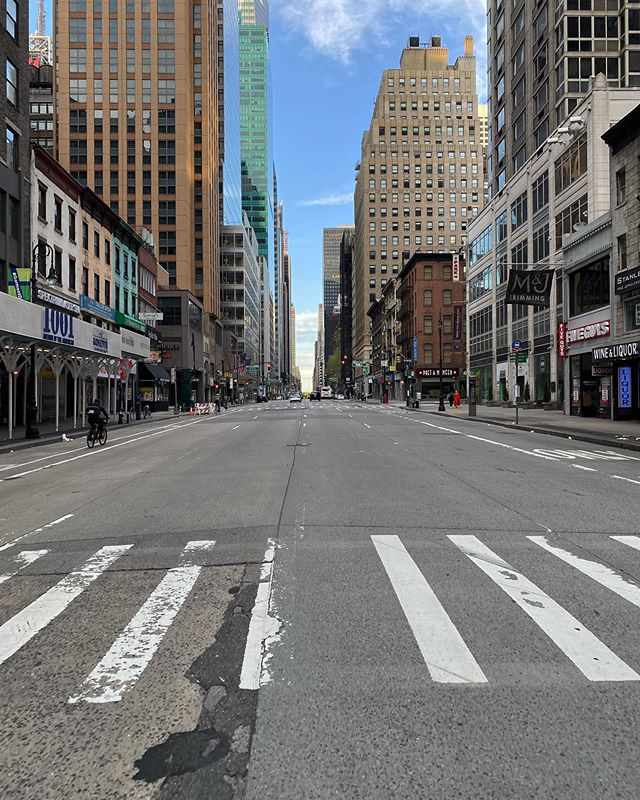building: (479, 1, 640, 397), (53, 1, 233, 320), (337, 36, 482, 371), (1, 147, 175, 413)
crosswalk: (7, 528, 640, 713)
street: (1, 402, 640, 800)
